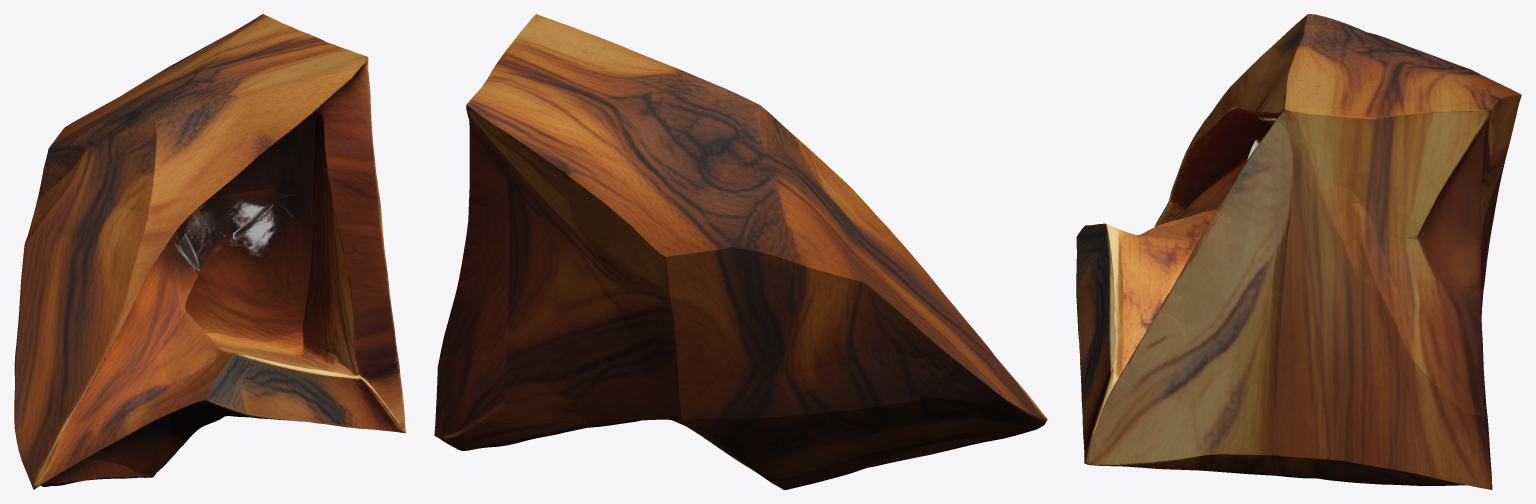
Rendered from reclaimed-wood-desk-clock-futuristic.jpeg.glb.
3 renders of one model, left to right at view 1: azimuth 30°, elevation 25°; view 2: azimuth 150°, elevation 25°; view 3: azimuth 270°, elevation 25°, orthographic. The views are drawn at different scales.
Parts seen in each view (by area): view 1: world; view 2: world; view 3: world.
Part boxes in pixels (x1,y1,x2,y2): world: [14, 14, 405, 489]; world: [434, 14, 1047, 489]; world: [1076, 14, 1521, 489].
Bounding box in the file's own units: 1 × 0.8029 × 0.7904.
Materials: 1 (1 with a texture image).
